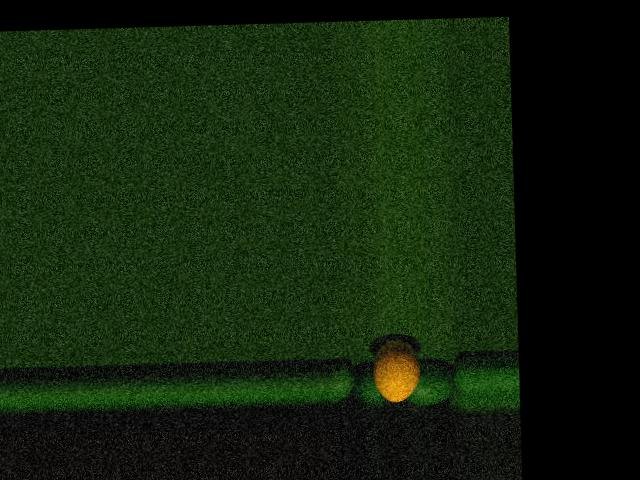egg: (372, 338, 421, 402)
